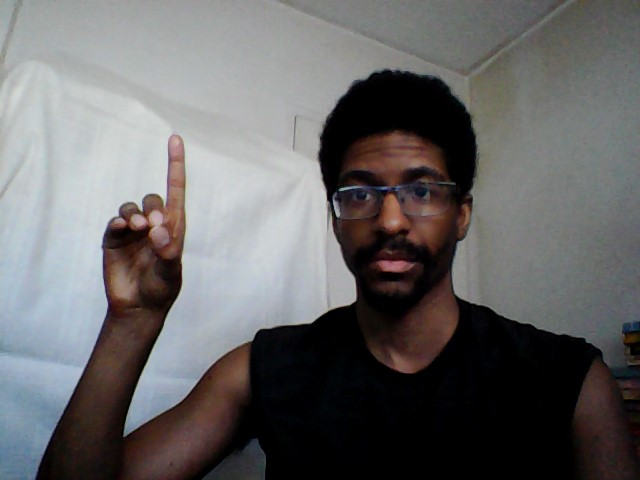d: (98, 126, 194, 332)
